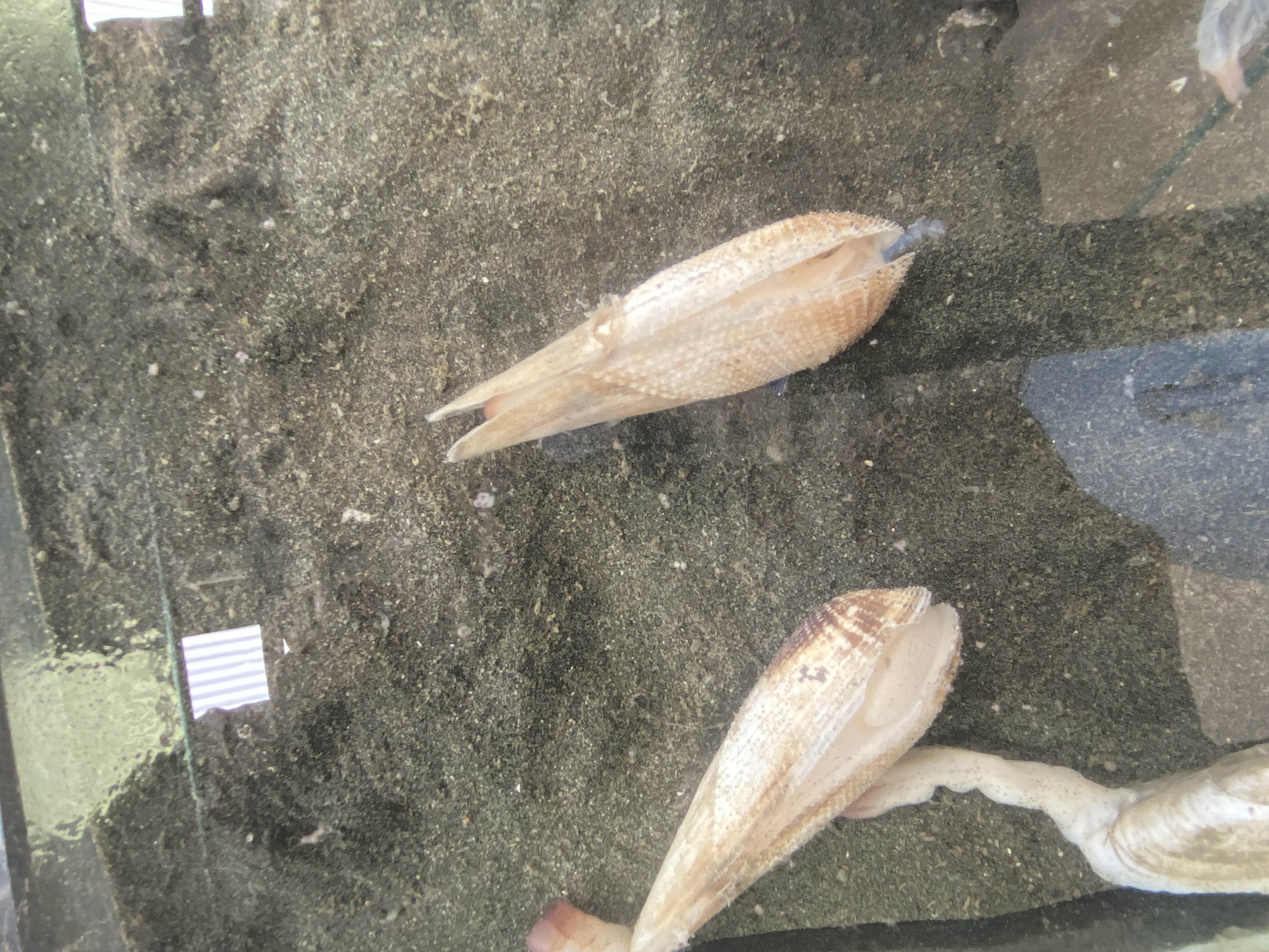At risk: (528, 587, 1269, 952), (428, 213, 942, 461)
